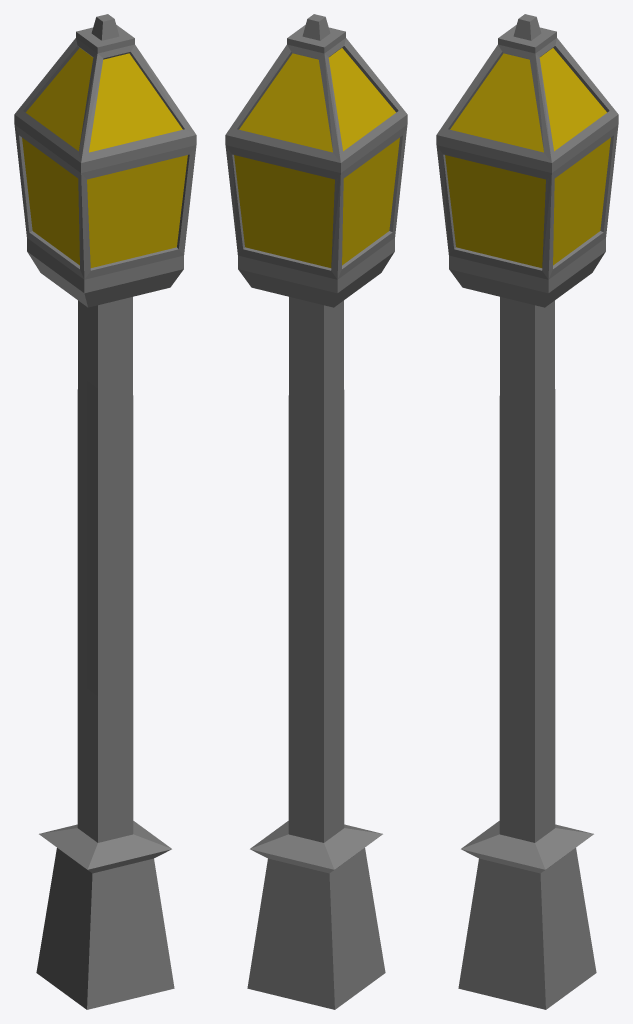
The model's file is Prop_Lamp_Post_Metal_01.fbx.
3 renders of one model, left to right at view 1: azimuth 30°, elevation 25°; view 2: azimuth 150°, elevation 25°; view 3: azimuth 330°, elevation 25°, orthographic.
Visible parts, largest first — view 1: Prop_Lamp_Post_Metal_01; view 2: Prop_Lamp_Post_Metal_01; view 3: Prop_Lamp_Post_Metal_01.
Part boxes in pixels (x1,y1,x2,y2): Prop_Lamp_Post_Metal_01: (14, 14, 196, 1009); Prop_Lamp_Post_Metal_01: (225, 14, 407, 1009); Prop_Lamp_Post_Metal_01: (436, 14, 618, 1009).
Size of the model in its own units: 12.49 by 99.54 by 12.49.
